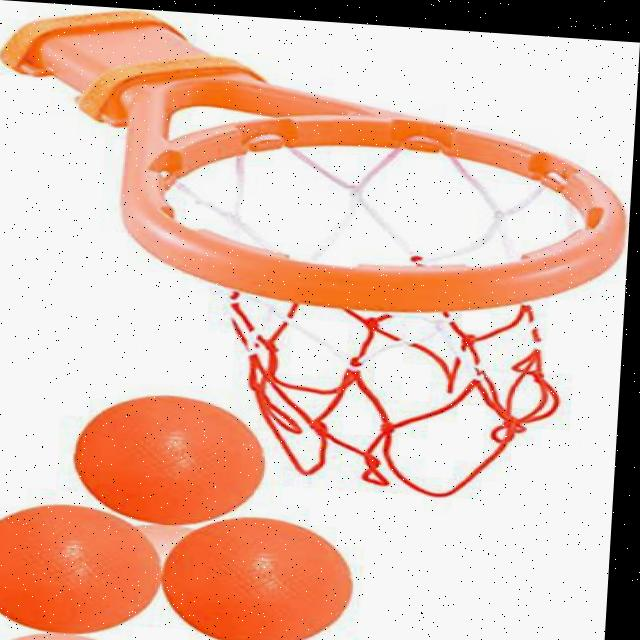basketball: (72, 390, 270, 532), (160, 511, 358, 640), (0, 498, 165, 639)
hoop: (107, 96, 635, 508)
